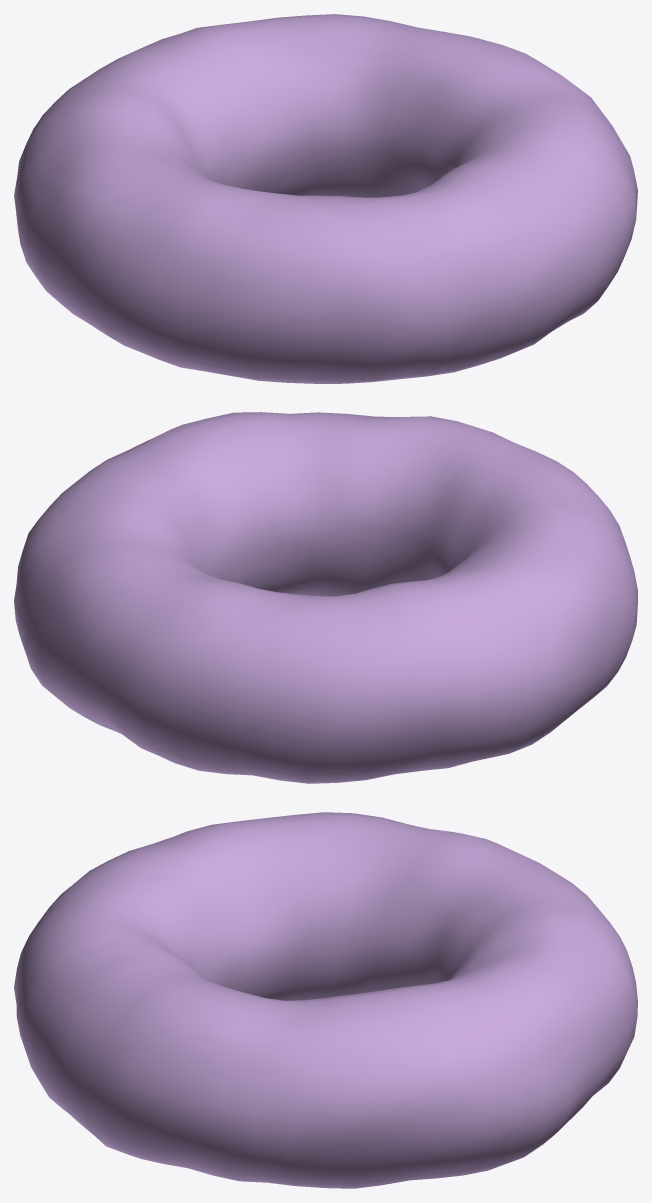
3 renders of one model, top to bottom at view 1: azimuth 30°, elevation 25°; view 2: azimuth 150°, elevation 25°; view 3: azimuth 270°, elevation 25°, orthographic.
Visible parts, largest first — view 1: torus; view 2: torus; view 3: torus.
Boxes of the visible parts, x1,y1,x2,y2 form: torus: (14,14,637,383); torus: (14,412,637,783); torus: (14,812,637,1188).
Bounding box in the file's own units: 2.24 × 0.7097 × 2.24.
